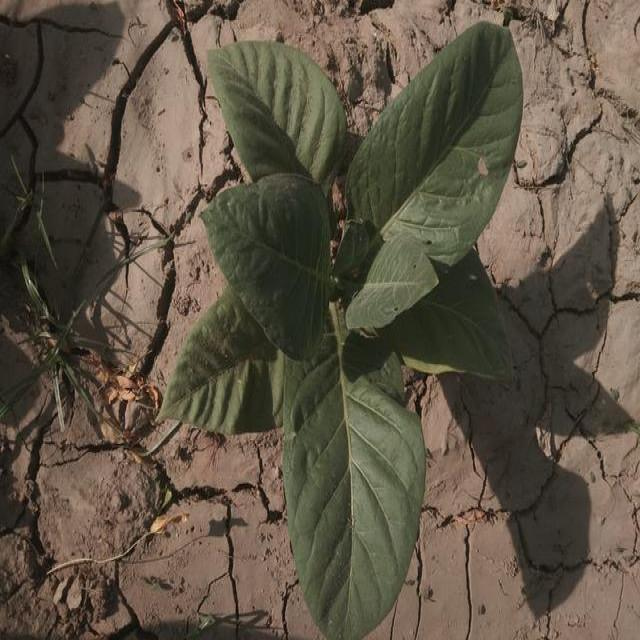crop: (168, 31, 526, 636)
